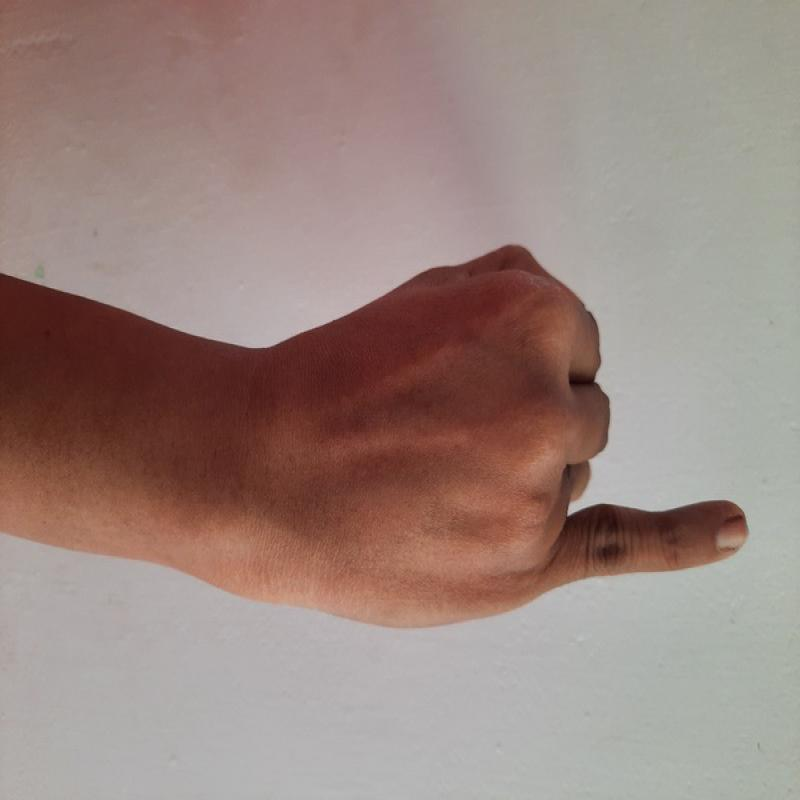Kartharee Mukham: (220, 230, 759, 640)
